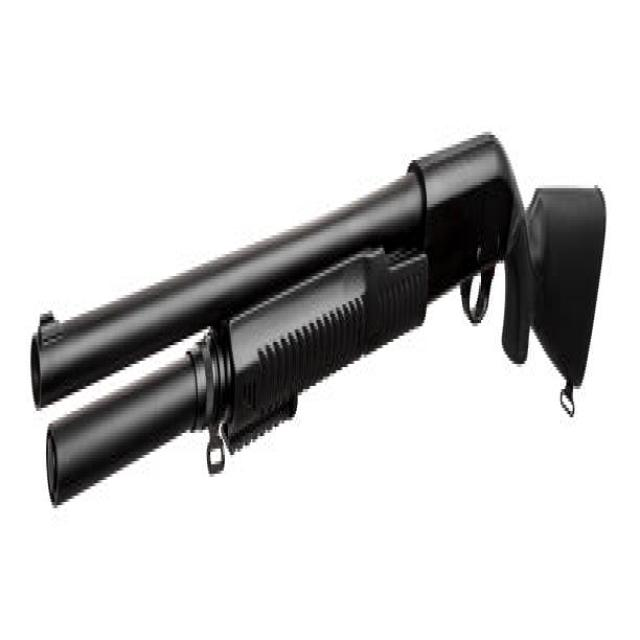rifle: (23, 114, 611, 516)
